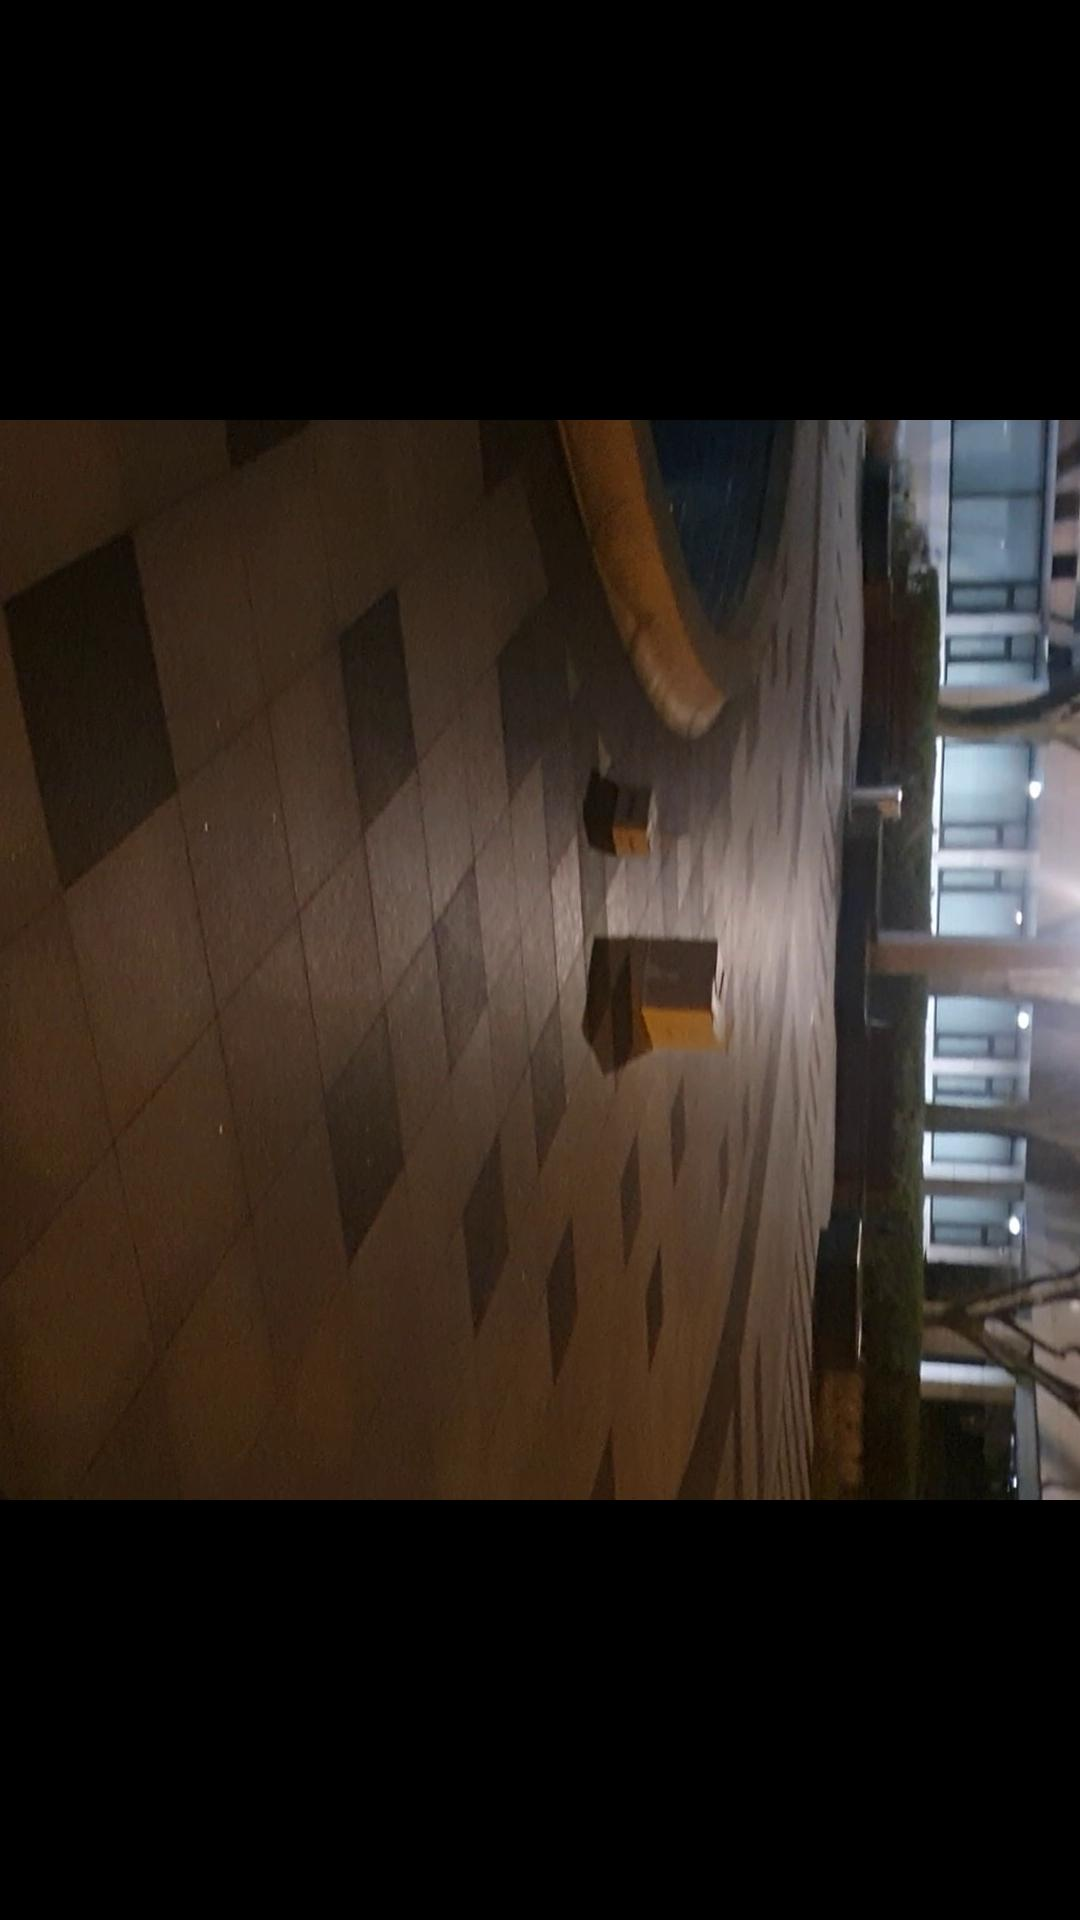Box: (607, 926, 742, 1068), (589, 766, 665, 890)
